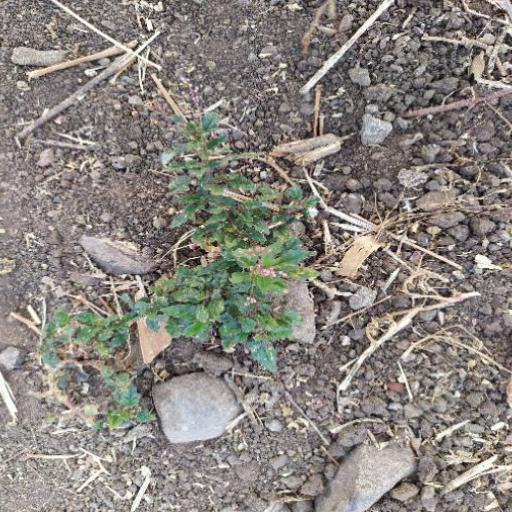weed: (60, 116, 332, 423)
